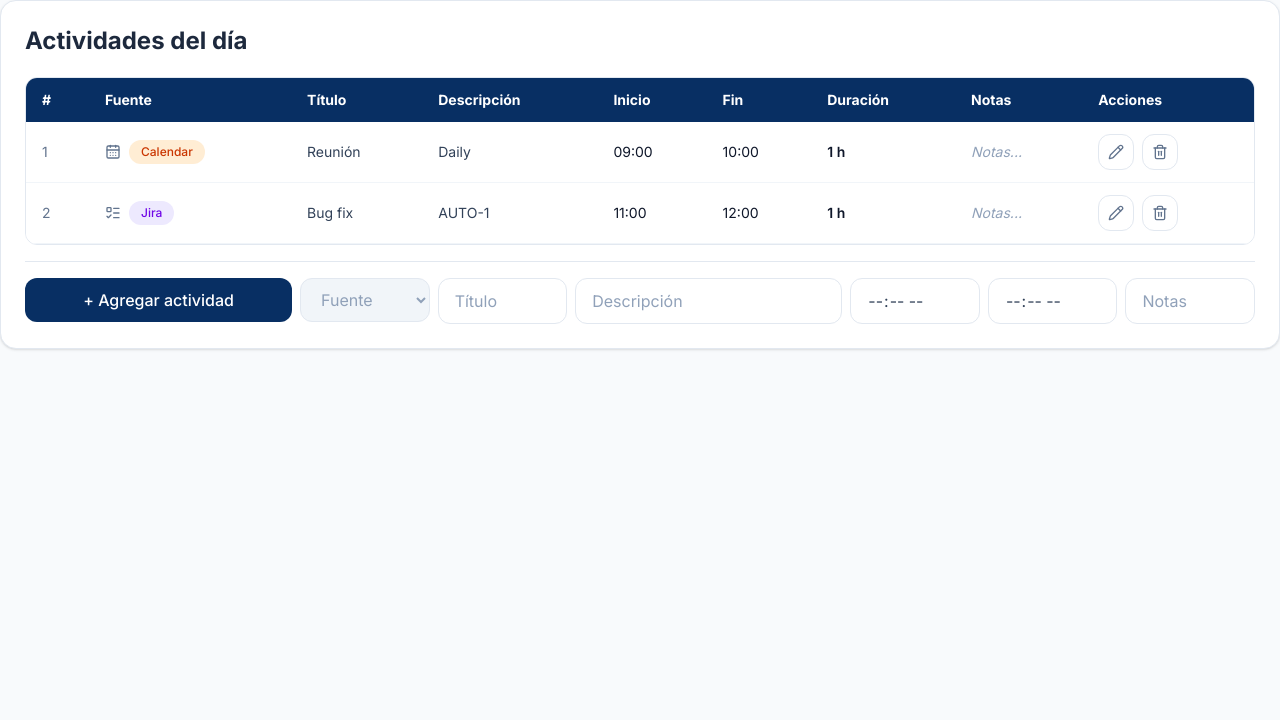
ActivitiesTable › cancels the delete without changing state
Click the button named "eliminar actividad" in the row of "Calendar". click: (1160, 152)
box: top-left (1142, 134), bottom-right (1178, 170)
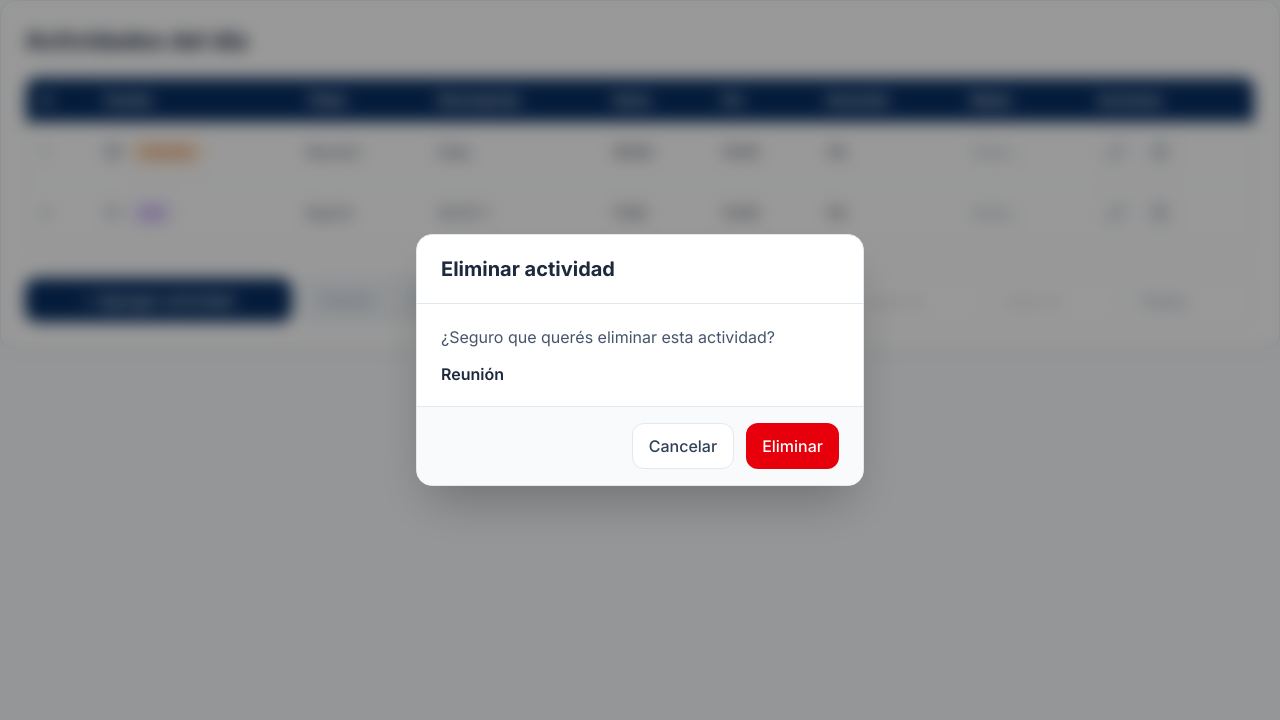
Click the button "Cancelar". click: (683, 446)
box: top-left (632, 423), bottom-right (734, 469)
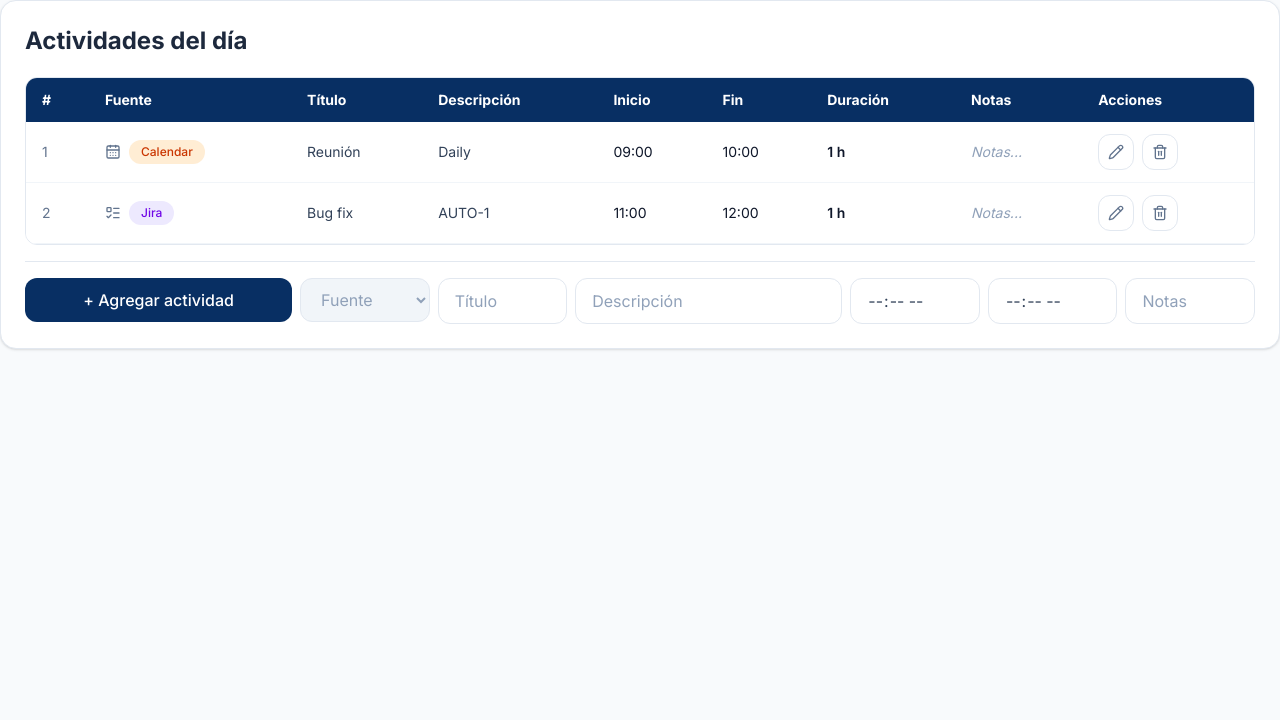
Expected: the dialog is gone
